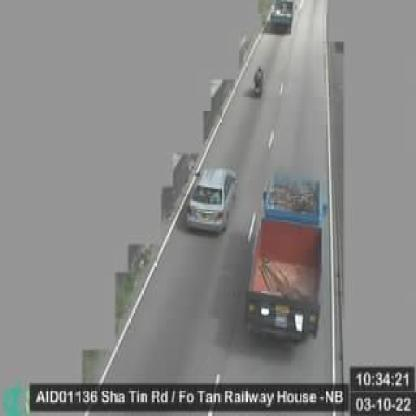Car: (183, 165, 238, 232), (265, 0, 293, 36)
Truck: (243, 173, 325, 341)
